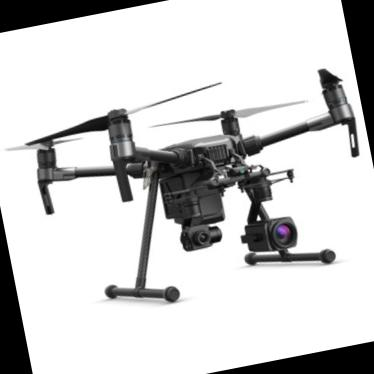drone: (2, 53, 373, 252)
